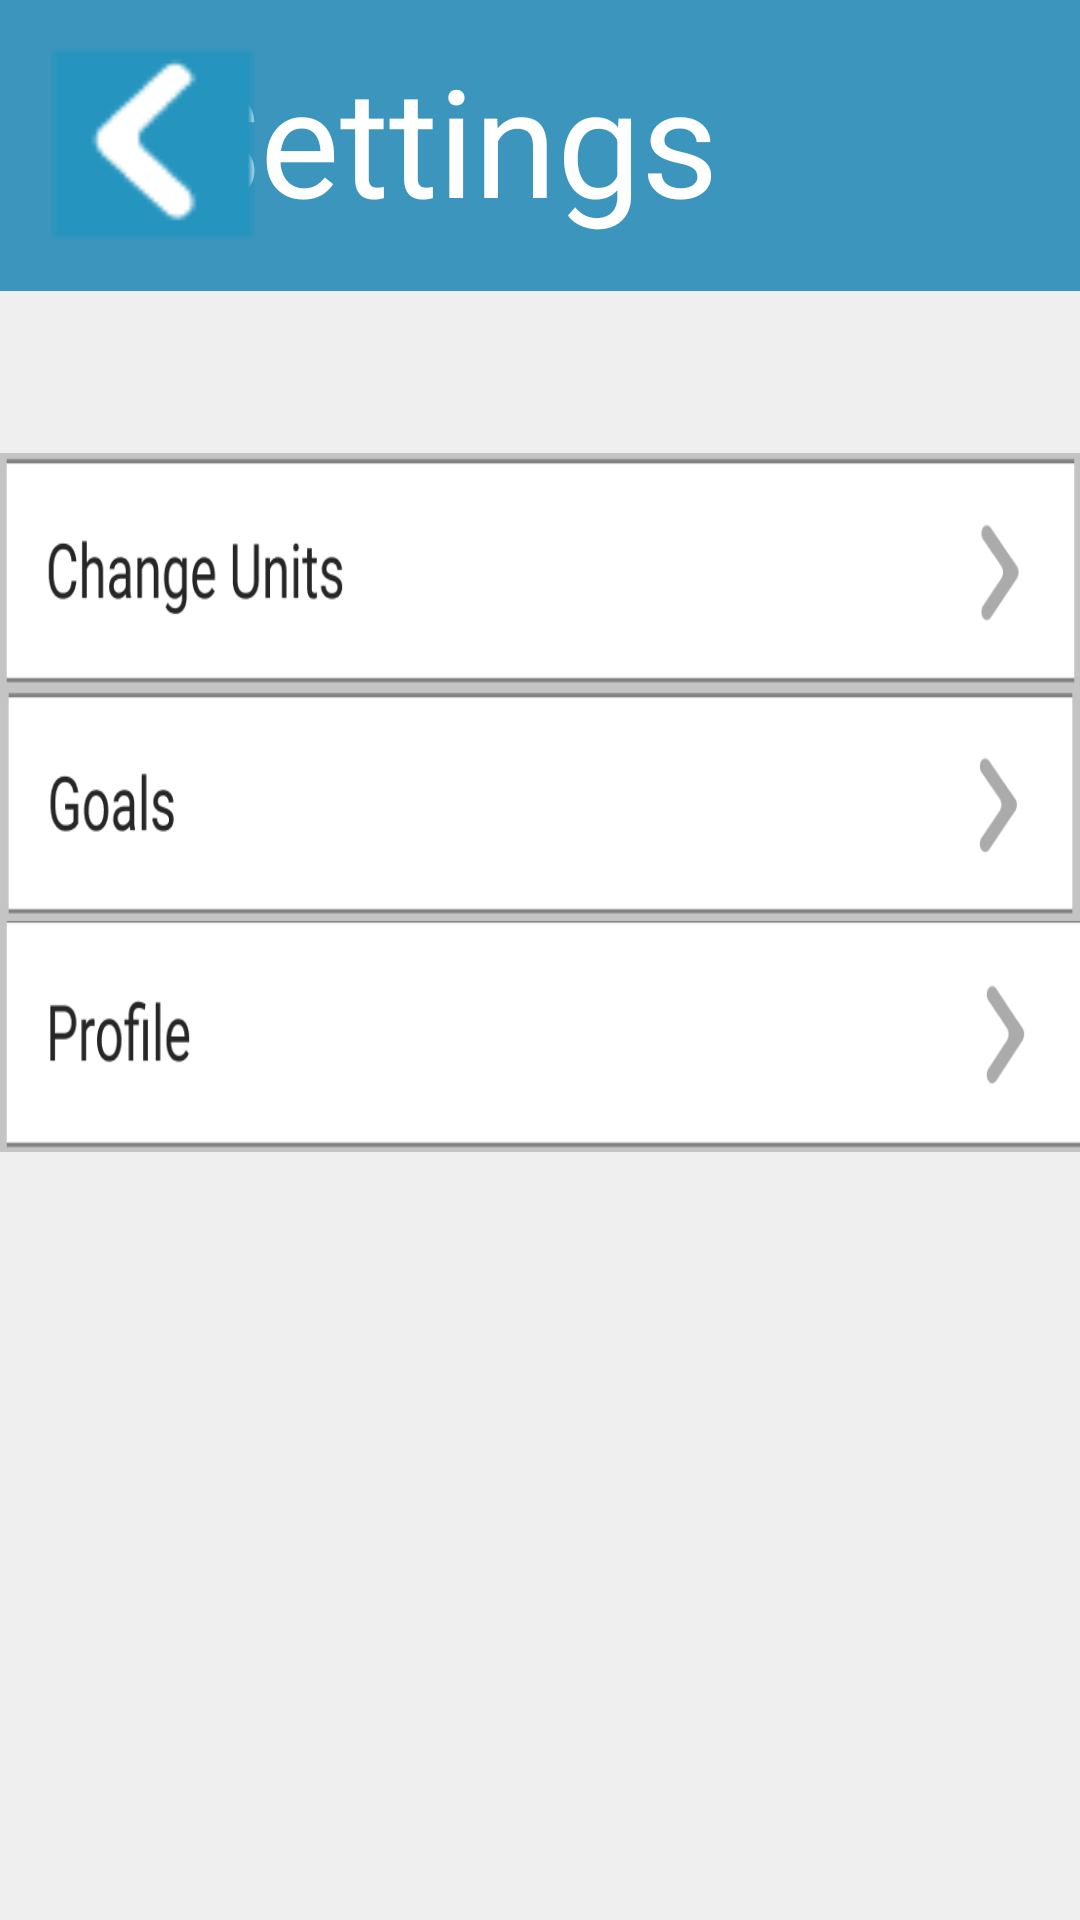

Where to tap for icons on this 1080x1920 app screen, as (x,y):
backarrow: (153,144)
